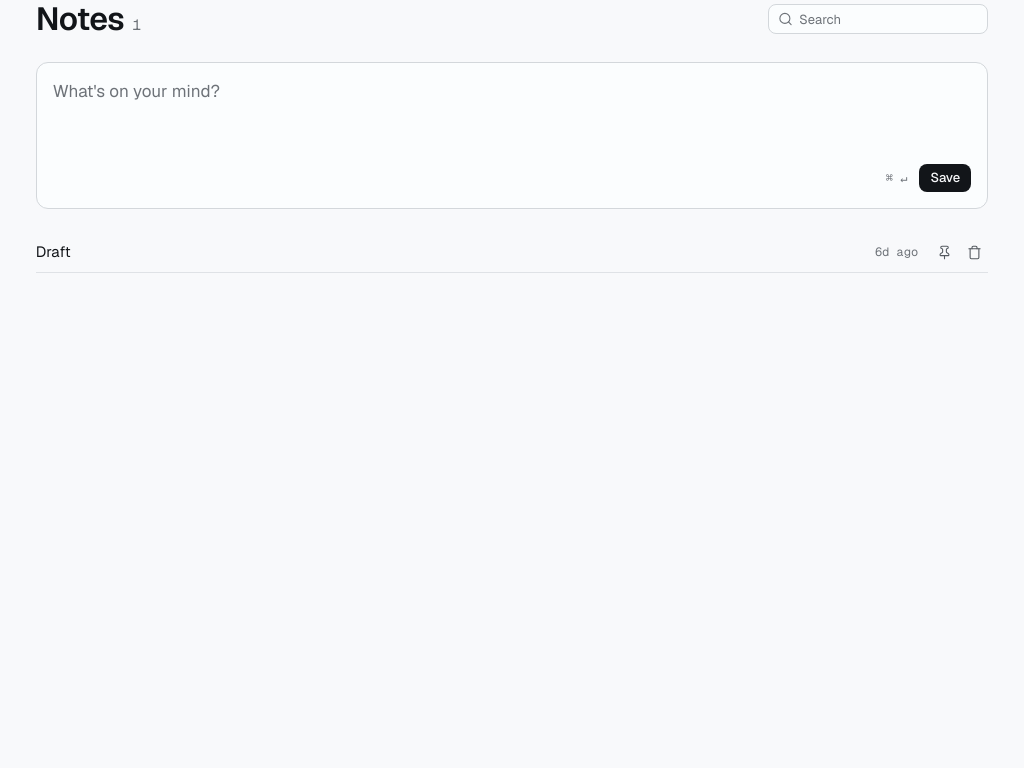
NotesBoard › editing in the dialog debounces the save and Done flushes it
The image size is (1024, 768).
Click the button "Draft": (53, 252) [36,233,863,272]
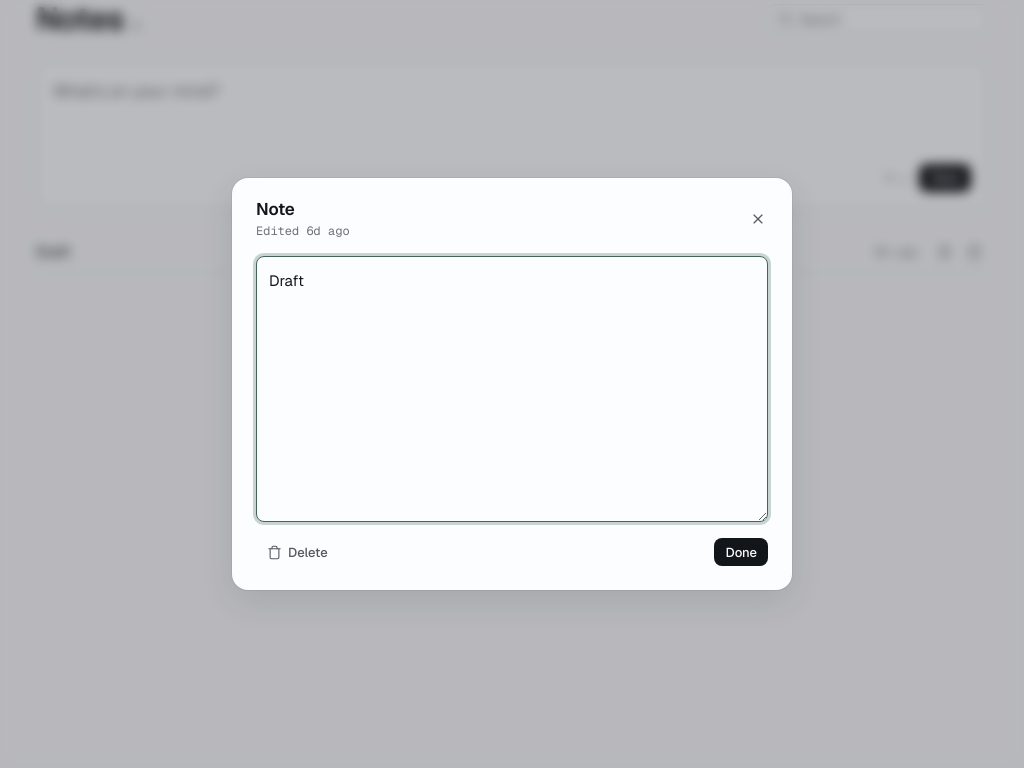
Replace the text in the text box named "Note text" with "Draft v2": (512, 389) [256,256,768,522]
Wait 600 ms
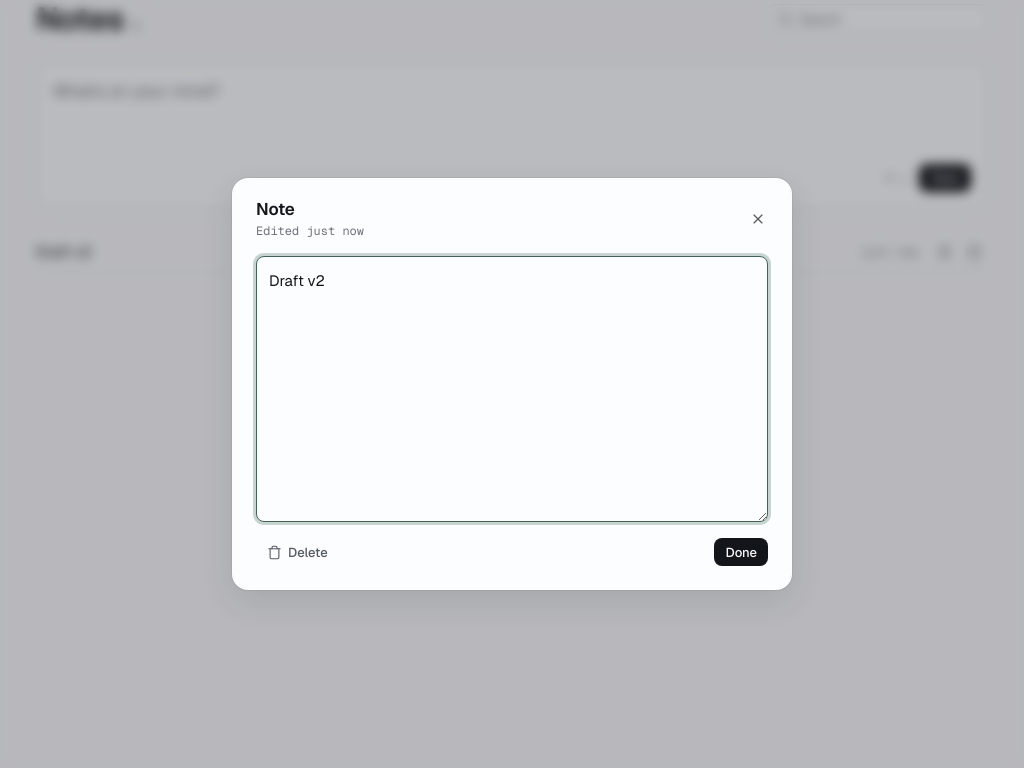
Replace the text in the text box named "Note text" with "Draft v3": (512, 389) [256,256,768,522]
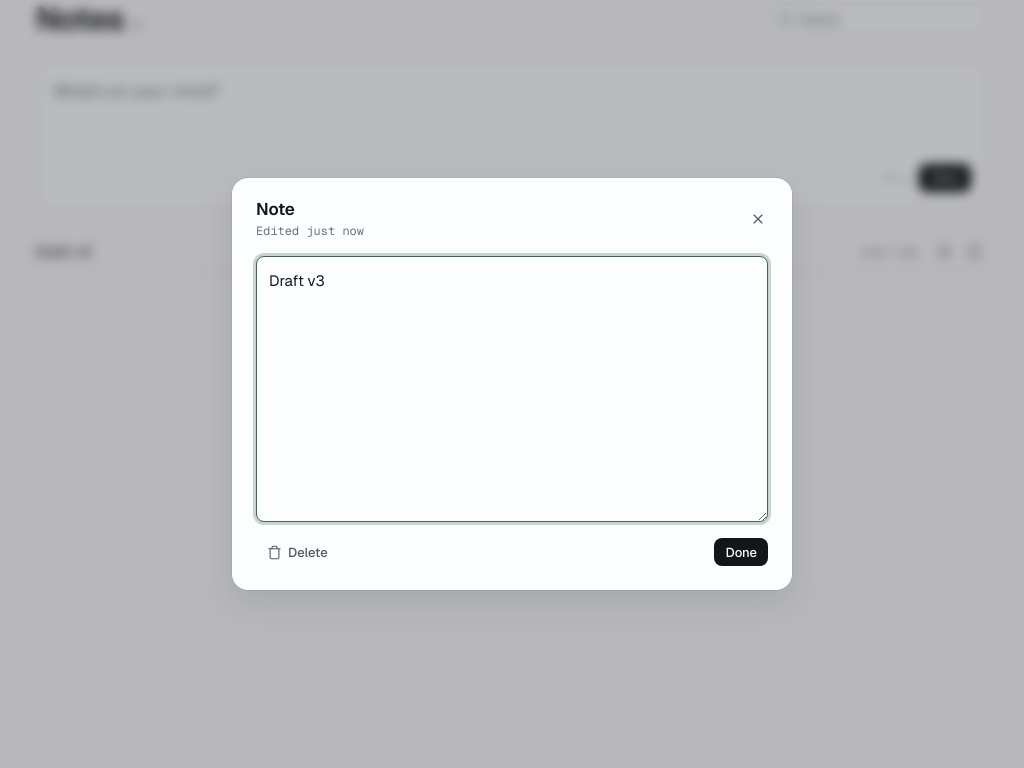
Click the button "Done": (741, 552) [714,538,768,566]
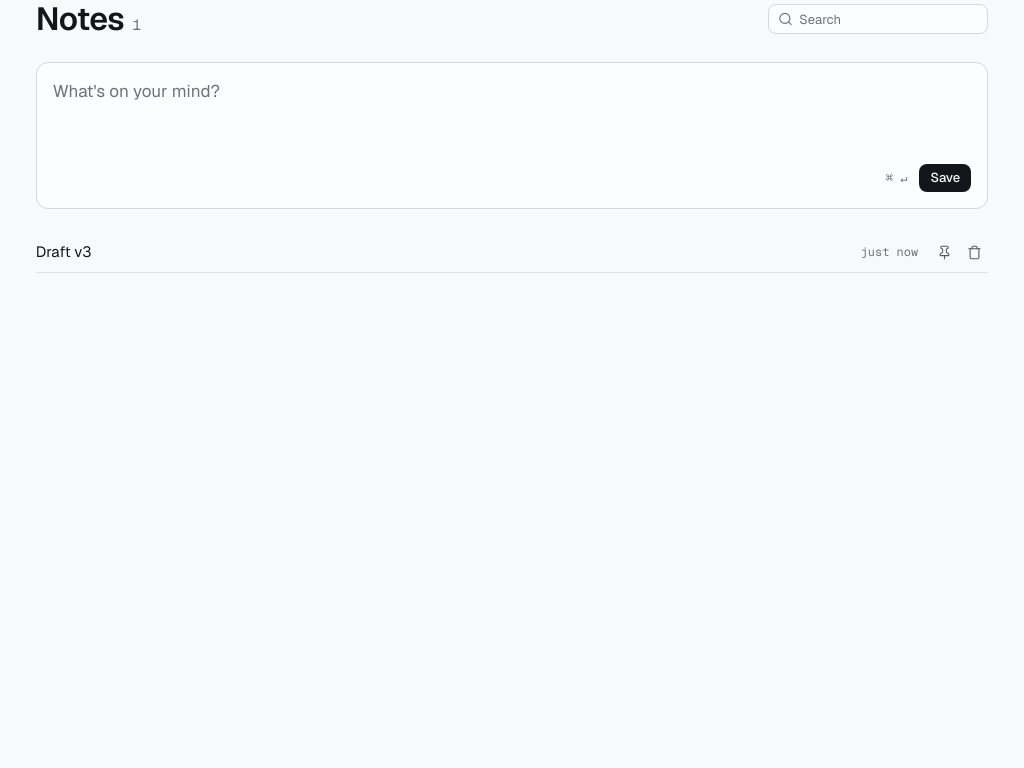
Expected: the text "Draft v3" is shown, [36,242,92,261]
Expected: the dialog is gone
